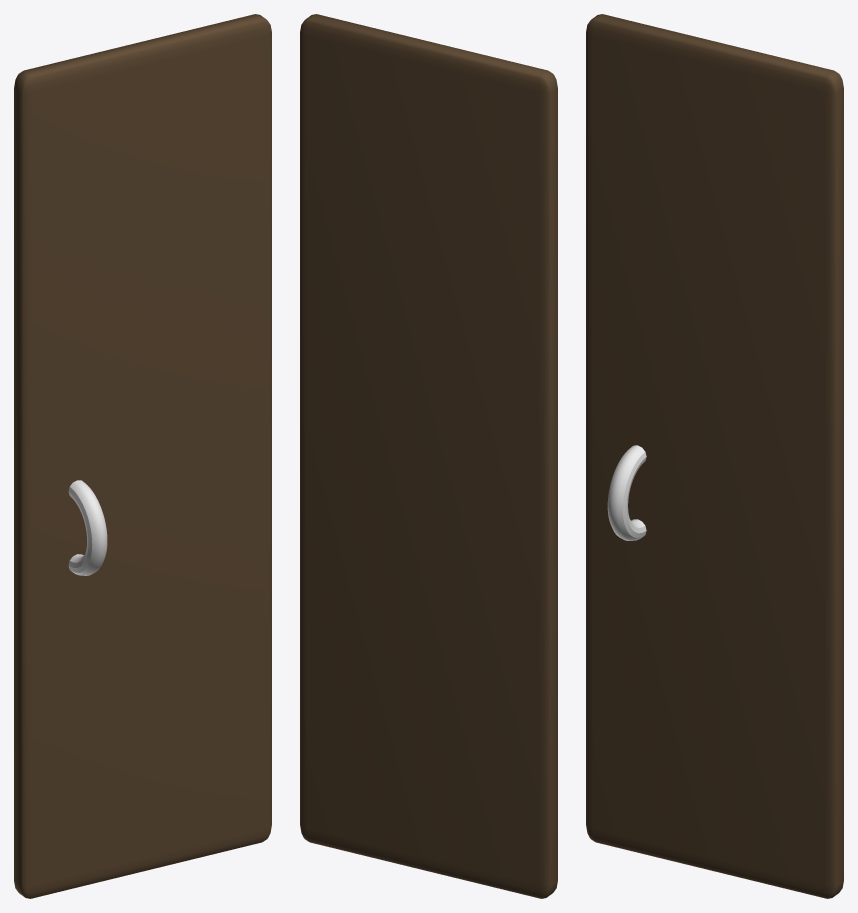
File: Level02_Door_Right.fbx
3 renders of one model, left to right at view 1: azimuth 30°, elevation 25°; view 2: azimuth 150°, elevation 25°; view 3: azimuth 330°, elevation 25°, orthographic.
Visible parts, largest first — view 1: Cupboard_Doors.001, Torus.001; view 2: Cupboard_Doors.001; view 3: Cupboard_Doors.001, Torus.001.
Part boxes in pixels (box(x1,y1,x2,y2)): Cupboard_Doors.001: box(14, 14, 271, 898); Torus.001: box(68, 480, 107, 575); Cupboard_Doors.001: box(300, 14, 557, 898); Cupboard_Doors.001: box(586, 14, 843, 898); Torus.001: box(607, 445, 646, 540).
Size of the model in its own units: 169 by 530 by 42.64.
